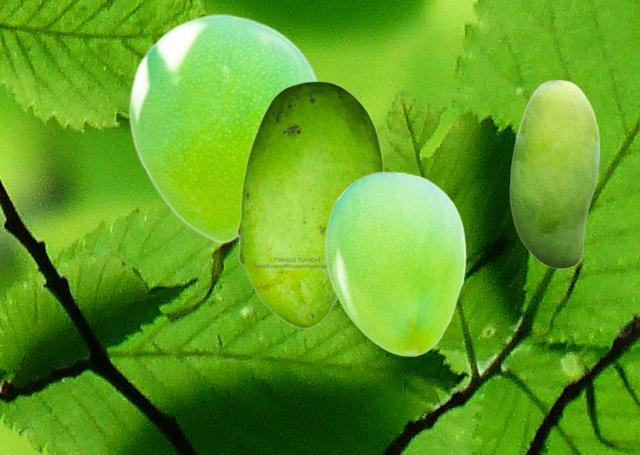green_mango: (129, 13, 319, 243), (236, 80, 383, 328), (324, 171, 465, 355), (509, 79, 599, 268)
